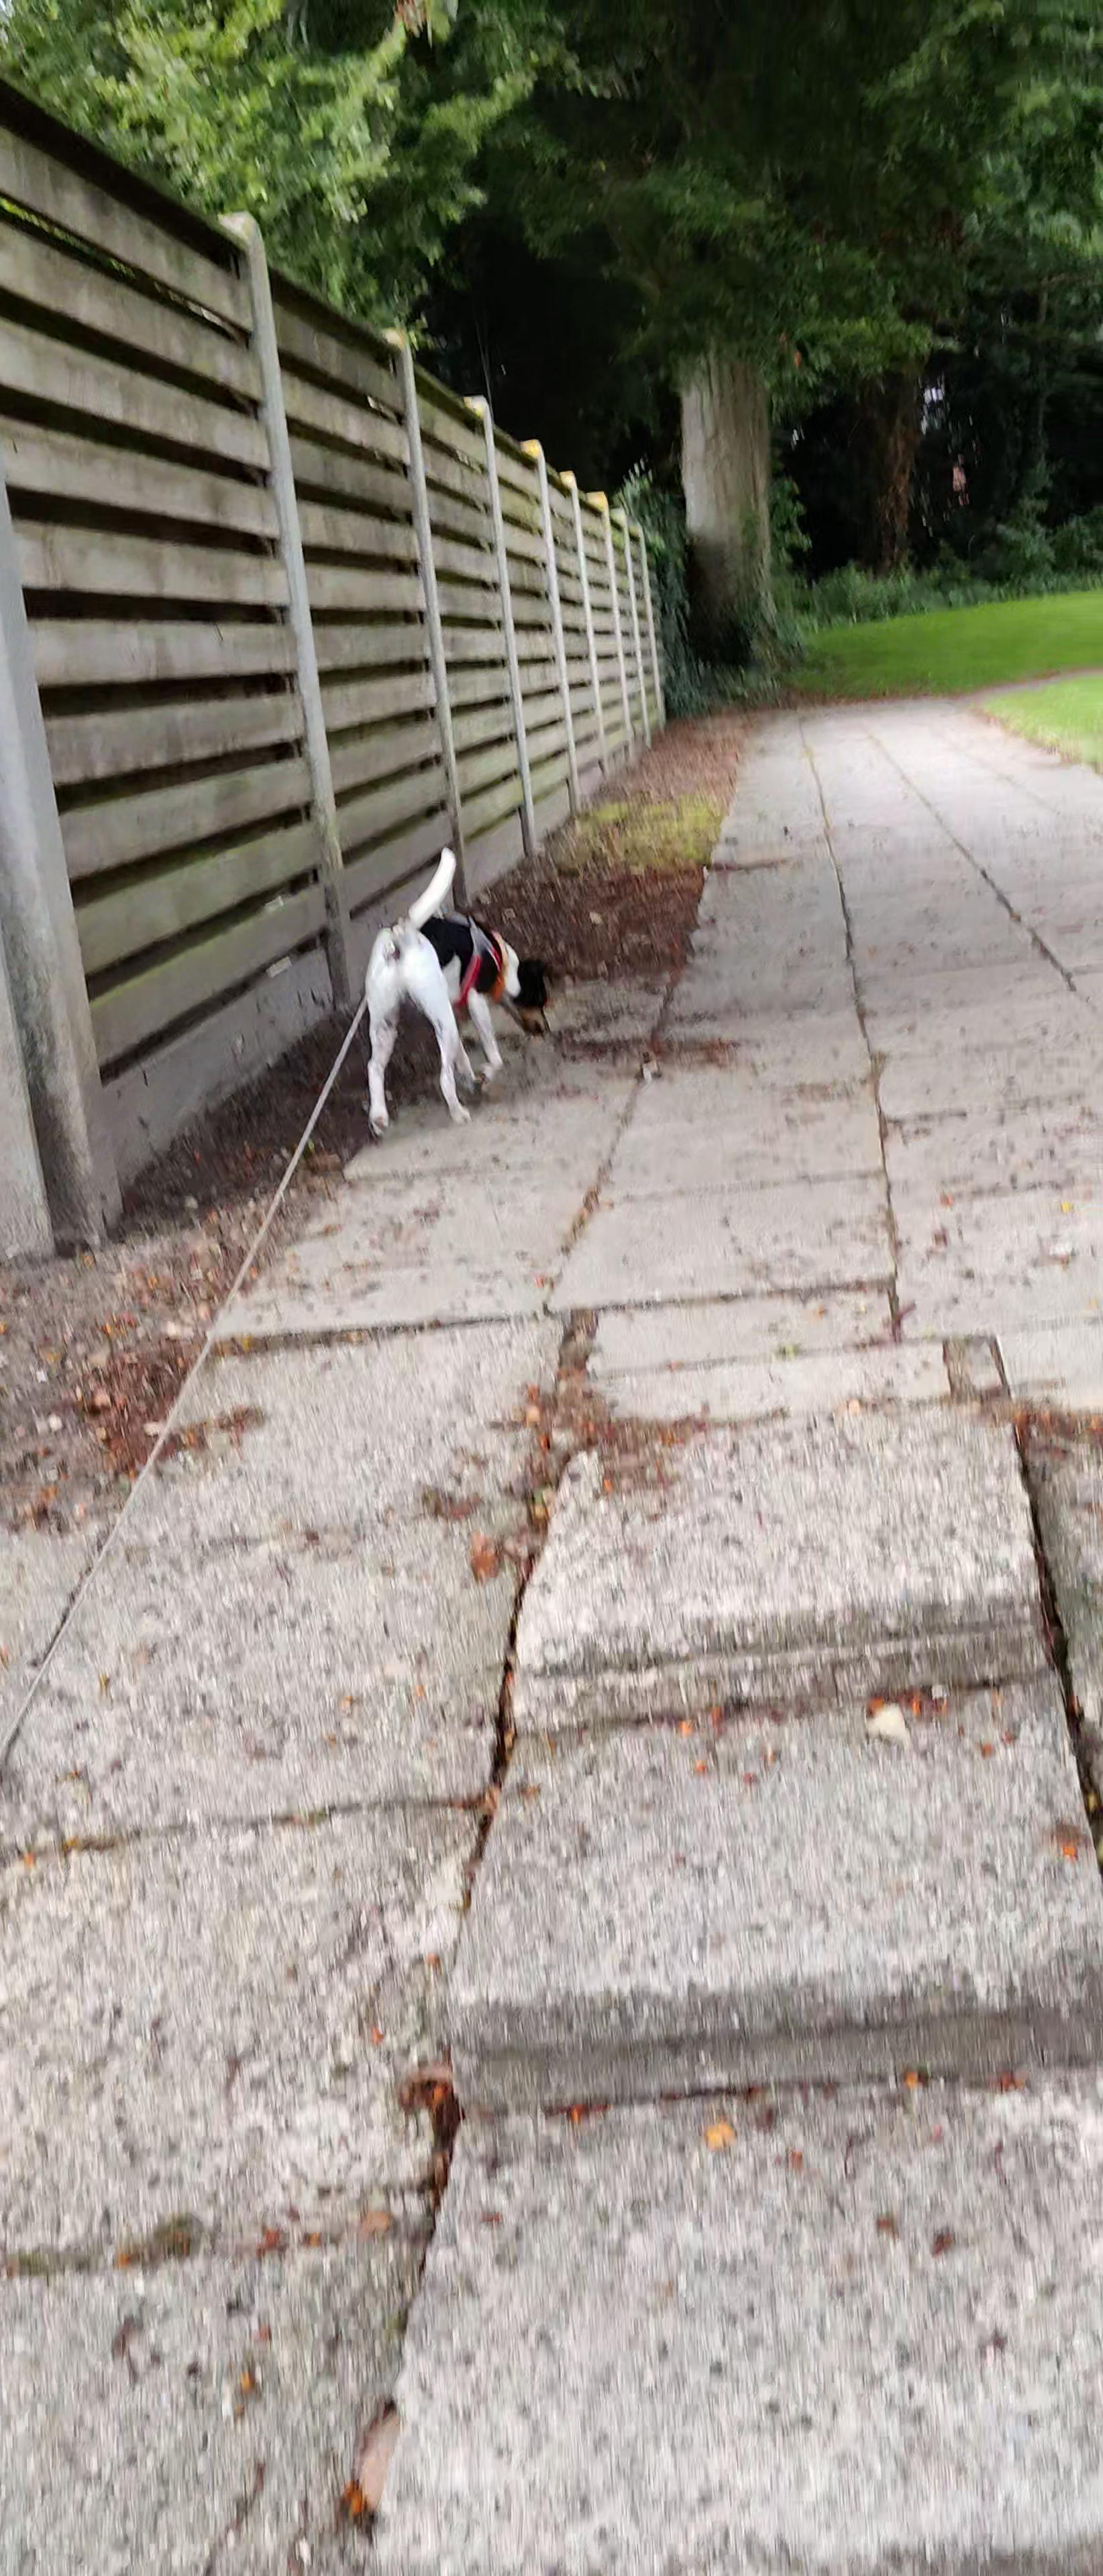Dog: (334, 830, 565, 1152)
